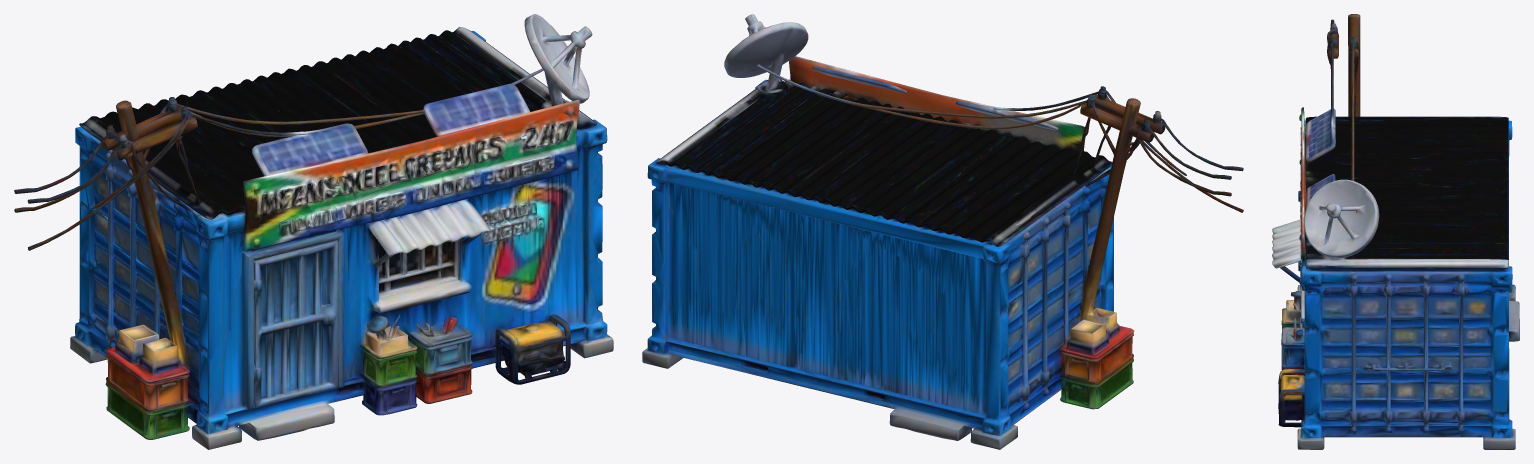
File: CellPhoneRepairShop.glb
3 renders of one model, left to right at view 1: azimuth 30°, elevation 25°; view 2: azimuth 150°, elevation 25°; view 3: azimuth 270°, elevation 25°, orthographic. The views are drawn at different scales.
Visible parts, largest first — view 1: node_0; view 2: node_0; view 3: node_0.
Boxes of the visible parts, <box> form: node_0: <box>14,14,613,449</box>; node_0: <box>642,14,1243,449</box>; node_0: <box>1272,14,1519,449</box>.
Size of the model in its own units: 0.9798 by 0.5506 by 0.4719.
Materials: 1 (1 with a texture image).
